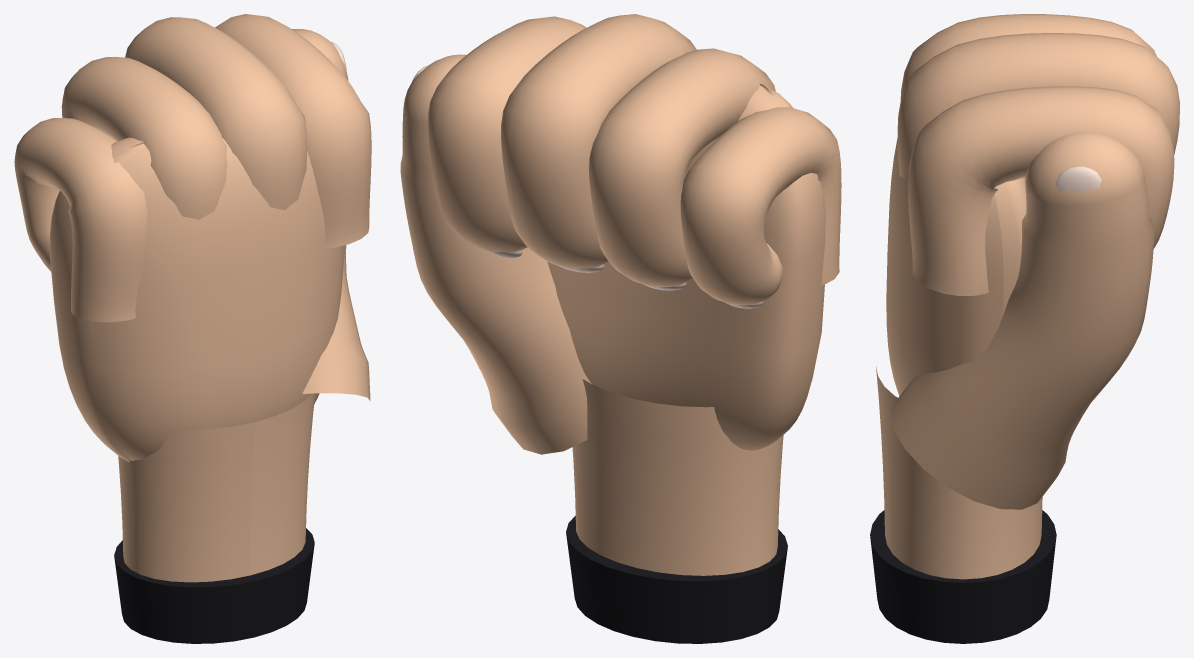
File: hand-left-thumb.glb
3 renders of one model, left to right at view 1: azimuth 30°, elevation 25°; view 2: azimuth 150°, elevation 25°; view 3: azimuth 270°, elevation 25°, orthographic. The views are drawn at different scales.
Parts seen in each view (by area): view 1: hand-left-thumb; view 2: hand-left-thumb; view 3: hand-left-thumb.
Part boxes in pixels (box(x1,y1,x2,y2)): hand-left-thumb: box(14, 14, 371, 643); hand-left-thumb: box(400, 14, 841, 643); hand-left-thumb: box(870, 14, 1179, 643).
Size of the model in its own units: 0.0915 by 0.1431 by 0.0694.
